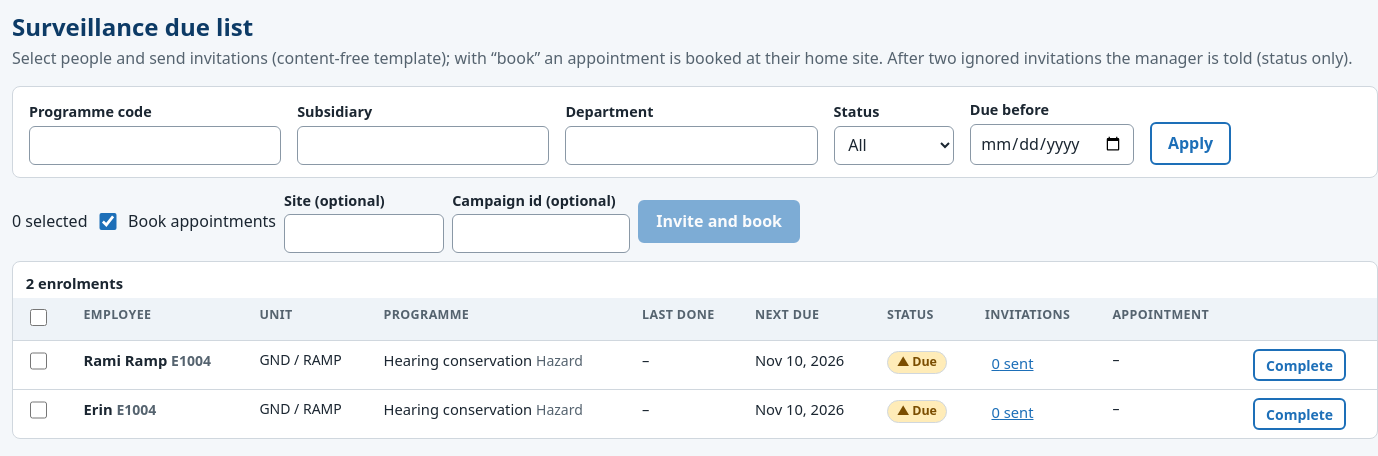
SurveillanceDue › select-all header and clinician completion
Later steps or results of the test are not shown.
Click the checkbox named "Select all shown". click: (39, 318)
box: x1=30 y1=309 x2=47 y2=326
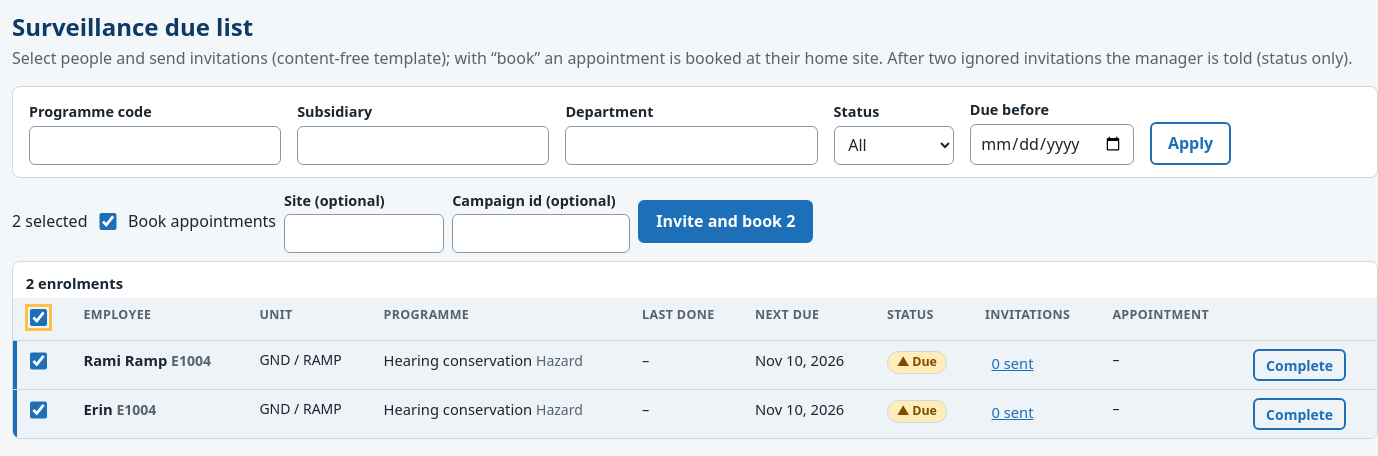
expect the text "2 selected" is shown: met, box x1=12 y1=209 x2=88 y2=233
